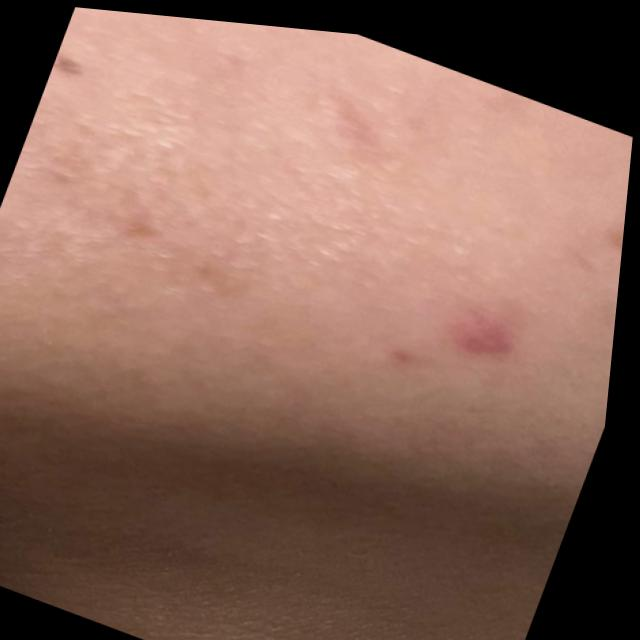papule: (369, 262, 541, 384)
